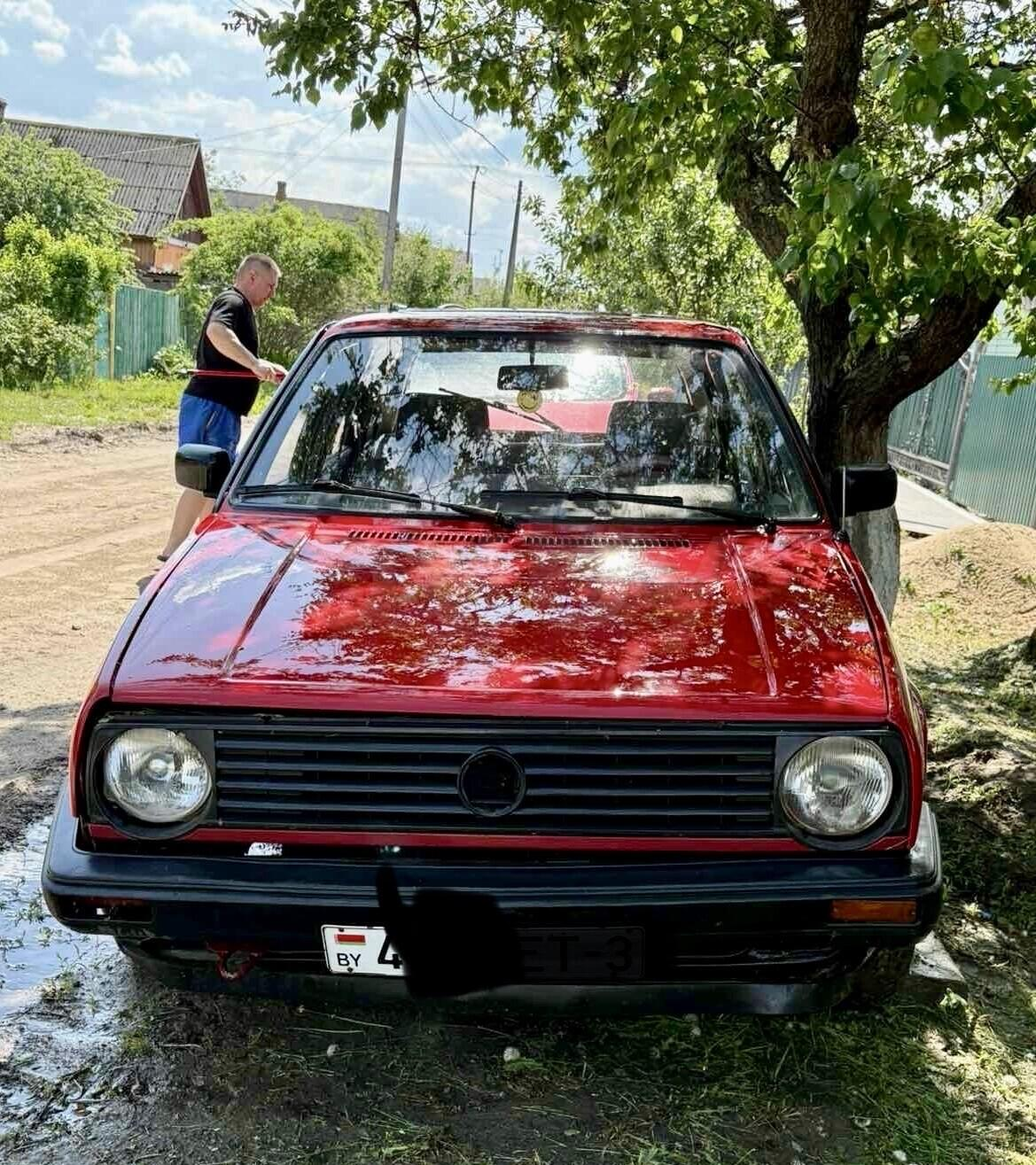Golf_1983-1992: (47, 300, 954, 1041)
